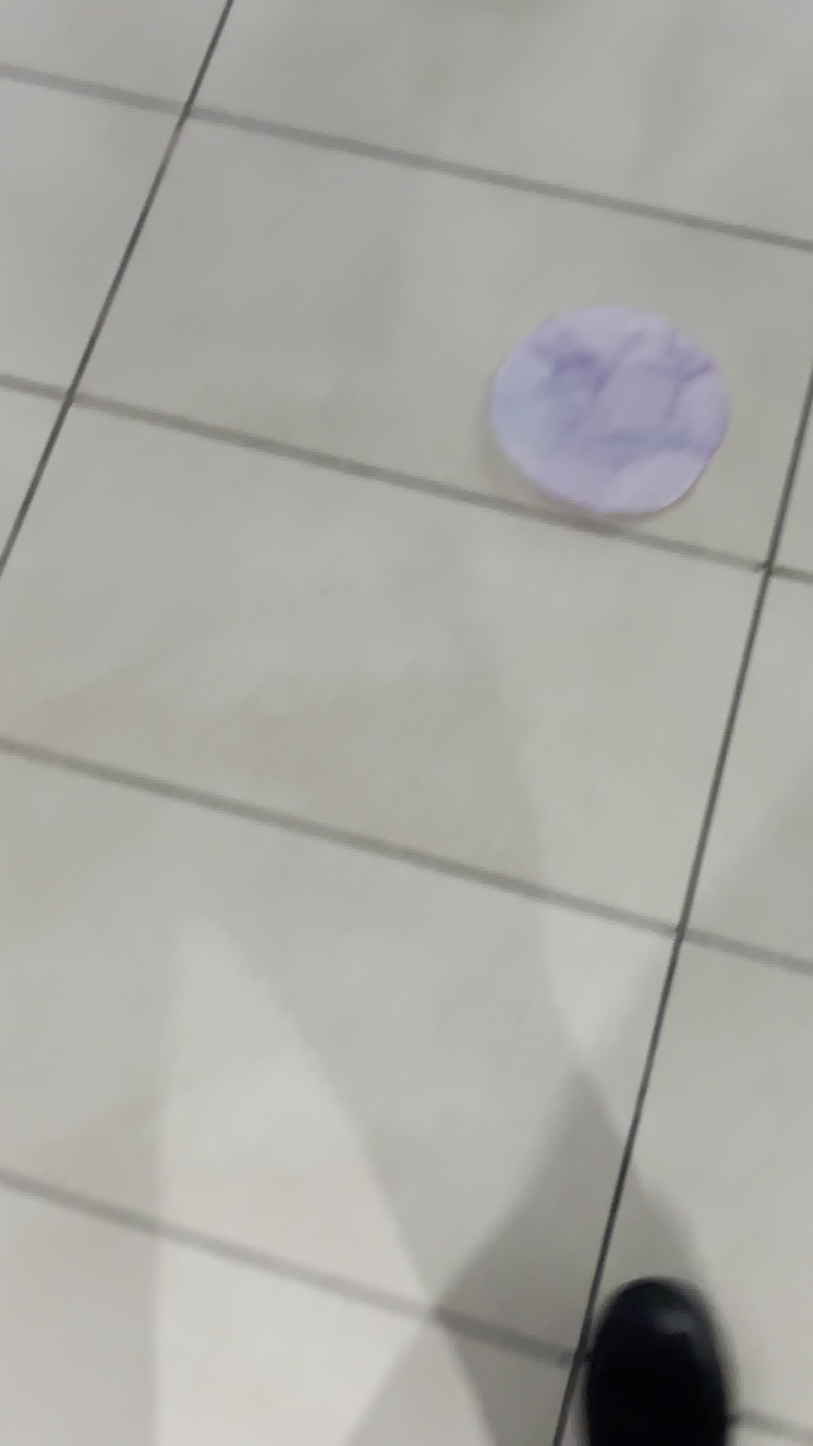Target: (473, 292, 729, 520)
